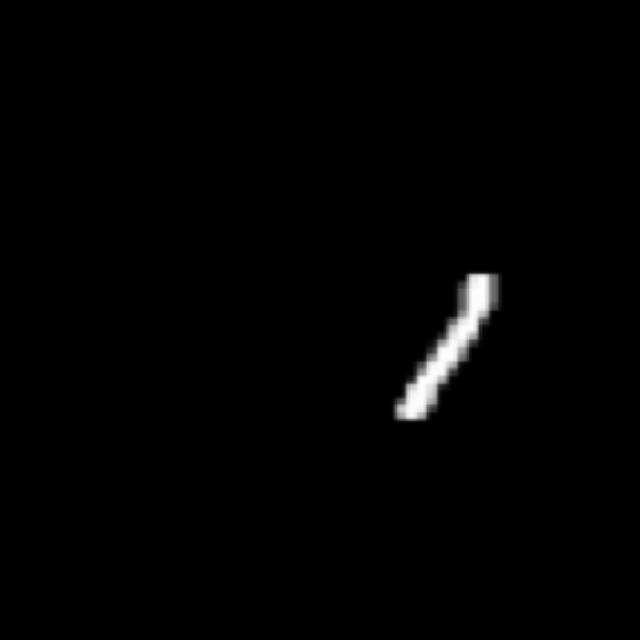one -1-: (372, 258, 517, 436)
